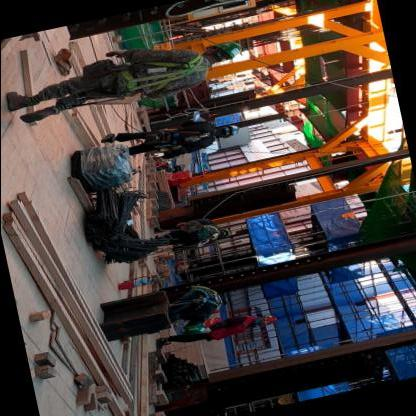Helmet: (213, 34, 247, 65)
safety-shoe: (1, 82, 31, 117), (15, 109, 50, 135)
